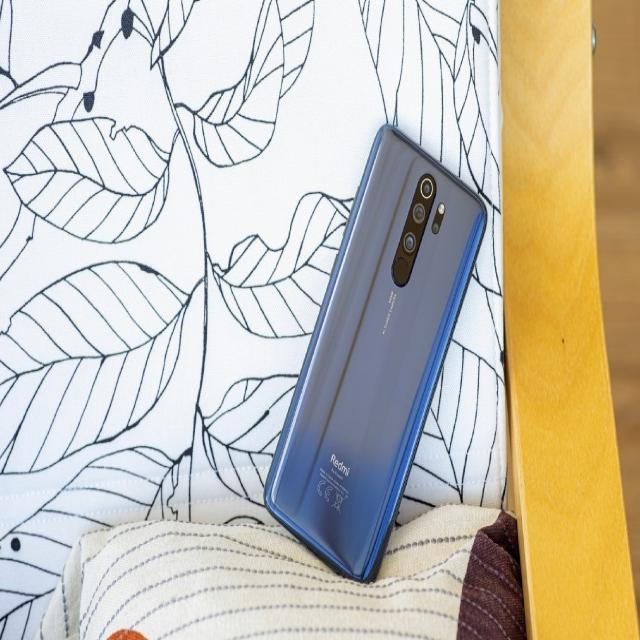Red Mi Note 8 Pro: (263, 124, 488, 584)
